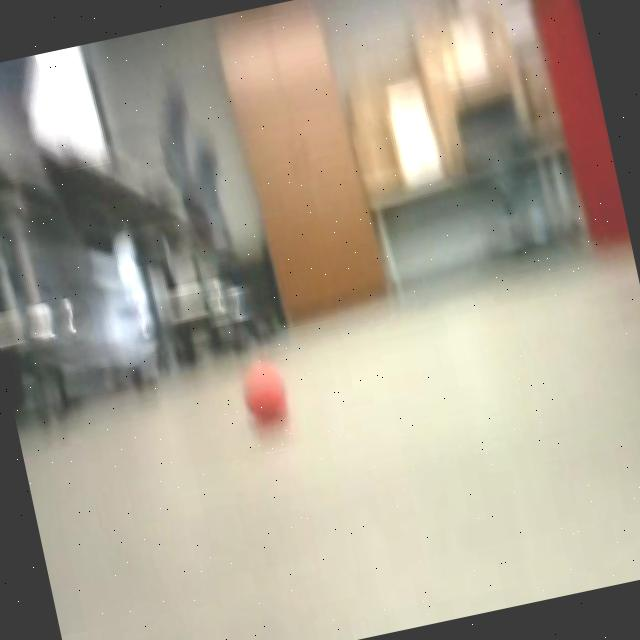ping-pong-ball: (232, 347, 301, 436)
